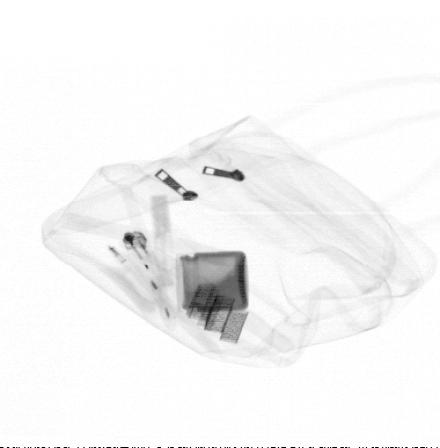Lighter: (120, 229, 188, 320)
